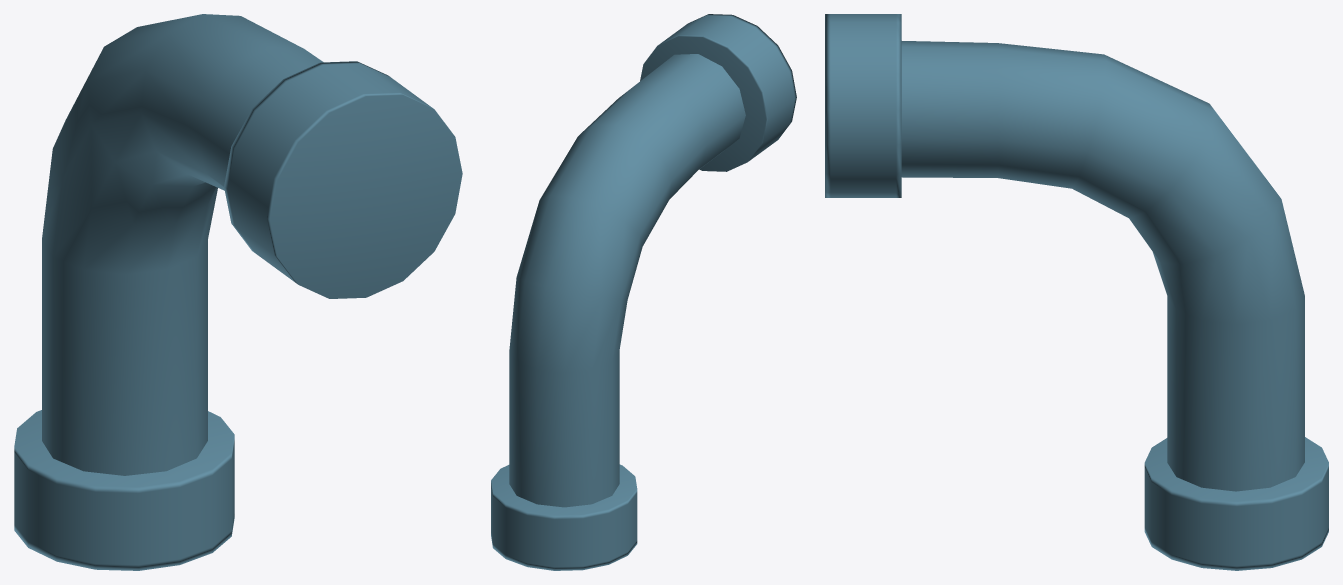
Rendered from CurvePipe_02.fbx.
3 renders of one model, left to right at view 1: azimuth 30°, elevation 25°; view 2: azimuth 150°, elevation 25°; view 3: azimuth 270°, elevation 25°, orthographic. The views are drawn at different scales.
Parts seen in each view (by area): view 1: CurvePipe2; view 2: CurvePipe2; view 3: CurvePipe2.
Part boxes in pixels (left/top/right/bottom): CurvePipe2: left=14, top=14, right=462, bottom=570; CurvePipe2: left=491, top=14, right=796, bottom=570; CurvePipe2: left=825, top=14, right=1328, bottom=570.
Bounding box in the file's own units: 44.16 × 130 × 117.
